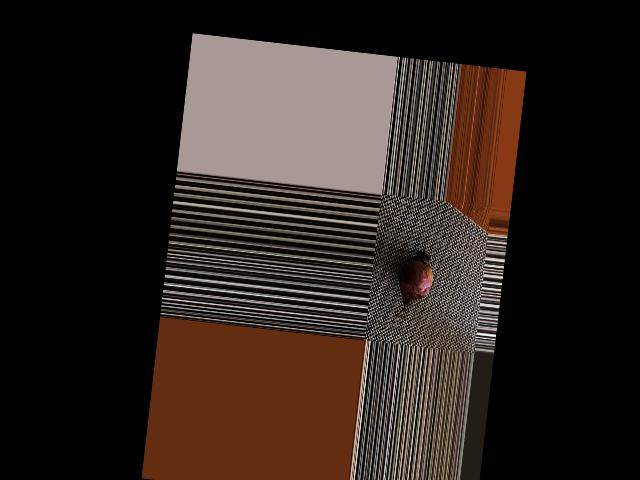beet: (379, 244, 435, 336)
